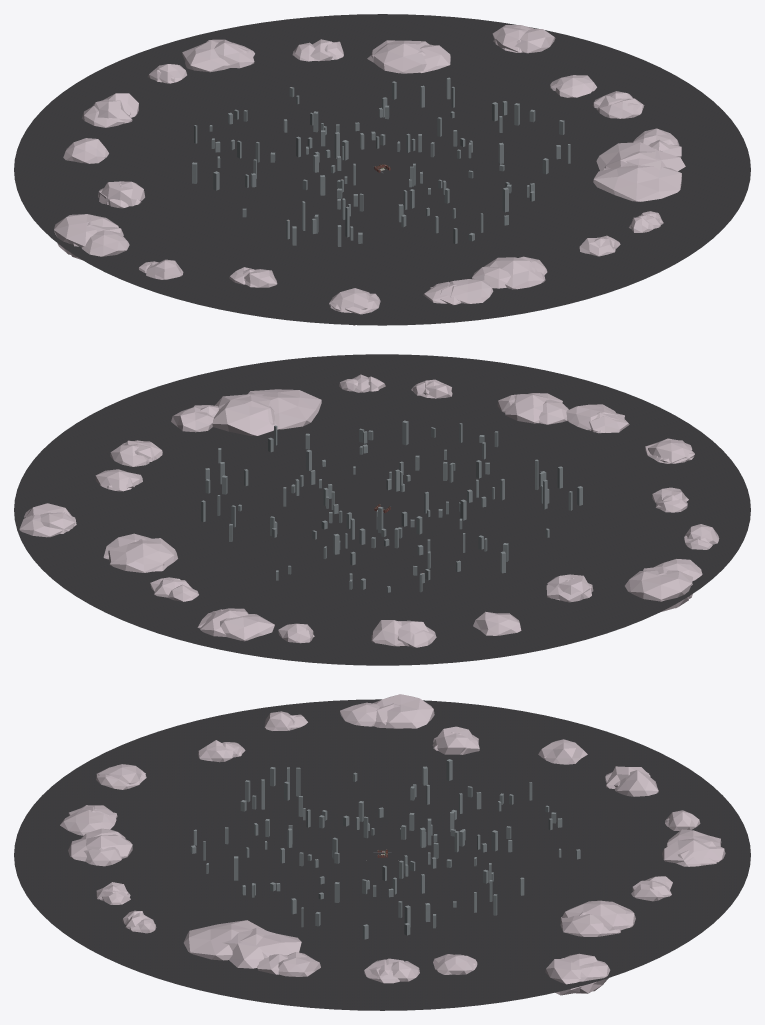
The model's file is ironside-cage.glb.
3 views of the same model, one above another, from view 1: azimuth 30°, elevation 25°; view 2: azimuth 150°, elevation 25°; view 3: azimuth 270°, elevation 25° (orthographic).
Visible parts, largest first — view 1: M_Asphalt_Far, M_Mountain_Far, M_Facade_Conc; view 2: M_Asphalt_Far, M_Mountain_Far, M_Facade_Conc; view 3: M_Asphalt_Far, M_Mountain_Far, M_Facade_Conc, M_Asphalt.
Boxes of the visible parts, x1,y1,x2,y2 form: M_Asphalt_Far: (14,14,750,325); M_Mountain_Far: (54,25,685,325); M_Facade_Conc: (192,77,570,246); M_Asphalt_Far: (14,354,750,665); M_Mountain_Far: (19,374,719,647); M_Facade_Conc: (201,420,582,592); M_Asphalt_Far: (14,699,750,1010); M_Mountain_Far: (60,694,725,995); M_Facade_Conc: (190,759,580,939); M_Asphalt: (362,846,402,863).
Size of the model in its own units: 5200 by 443 by 5200.
Materials: 26 (11 with a texture image).
